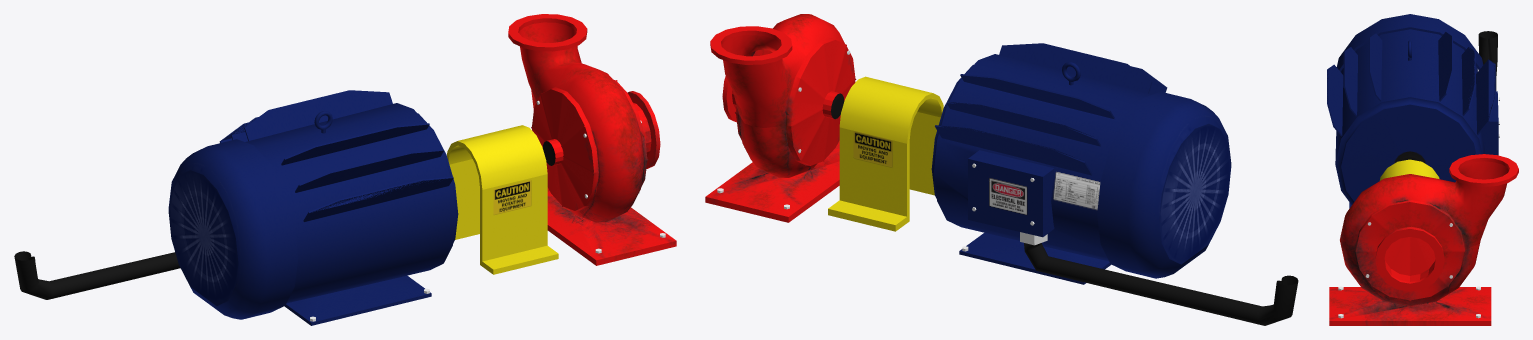
The model's file is MotorsNoShaftSingle.fbx.
The picture shows the model from 3 angles, left to right: view 1: azimuth 30°, elevation 25°; view 2: azimuth 150°, elevation 25°; view 3: azimuth 270°, elevation 25°; orthographic projection. The views are drawn at different scales.
Visible parts, largest first — view 1: Pump9NoShaft; view 2: Pump9NoShaft; view 3: Pump9NoShaft.
Boxes of the visible parts, x1,y1,x2,y2 form: Pump9NoShaft: [14, 14, 676, 325]; Pump9NoShaft: [705, 14, 1298, 325]; Pump9NoShaft: [1327, 14, 1518, 325].
Bounding box in the file's own units: 3.61 × 1.06 × 1.19.
